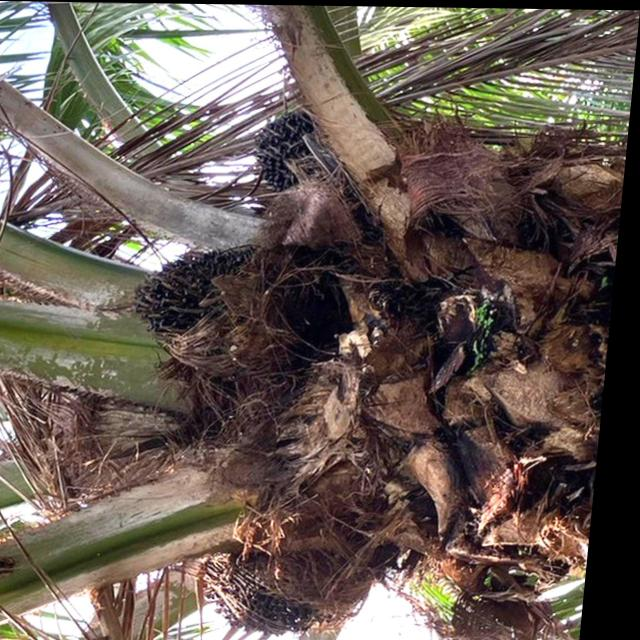unripe: (122, 234, 284, 370), (232, 100, 352, 210)
